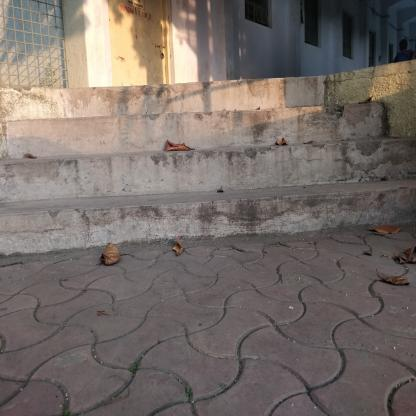stairs: (69, 79, 299, 266)
